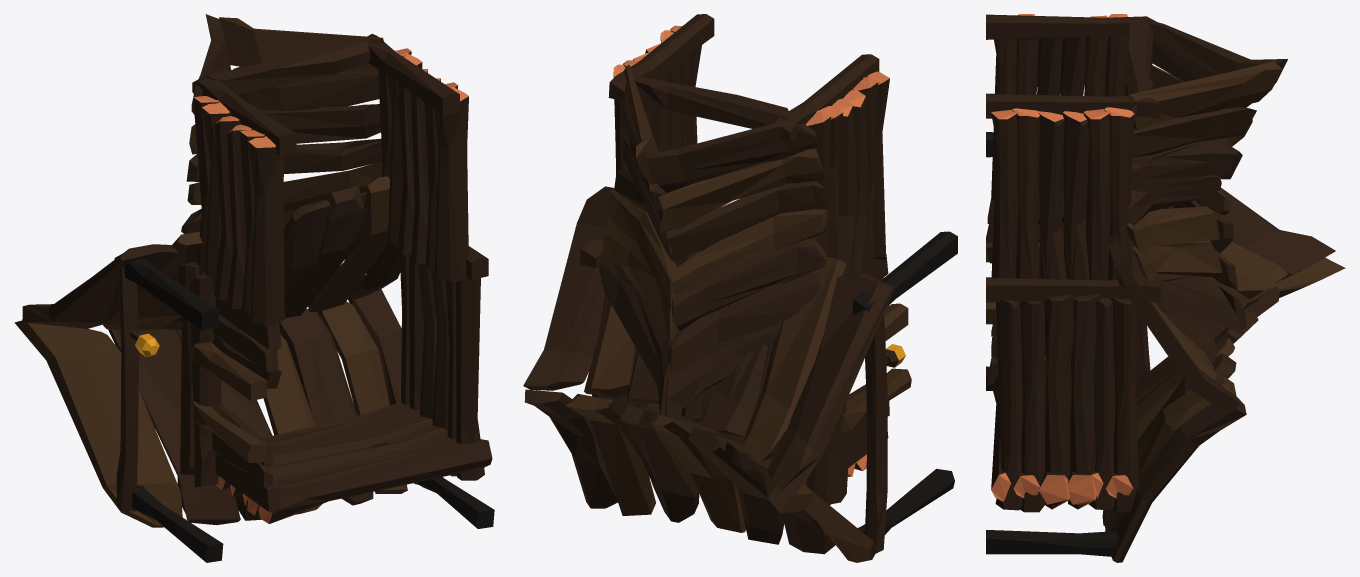
The model's file is House_02.FBX.
3 views of the same model, side by side, from view 1: azimuth 30°, elevation 25°; view 2: azimuth 150°, elevation 25°; view 3: azimuth 270°, elevation 25° (orthographic). The views are drawn at different scales.
Visible parts, largest first — view 1: House_02; view 2: House_02; view 3: House_02.
Part boxes in pixels (box(x1,y1,x2,y2)): House_02: box(14, 14, 494, 562); House_02: box(523, 14, 957, 562); House_02: box(986, 14, 1345, 562).
Size of the model in its own units: 7.37 by 10.31 by 7.47.
